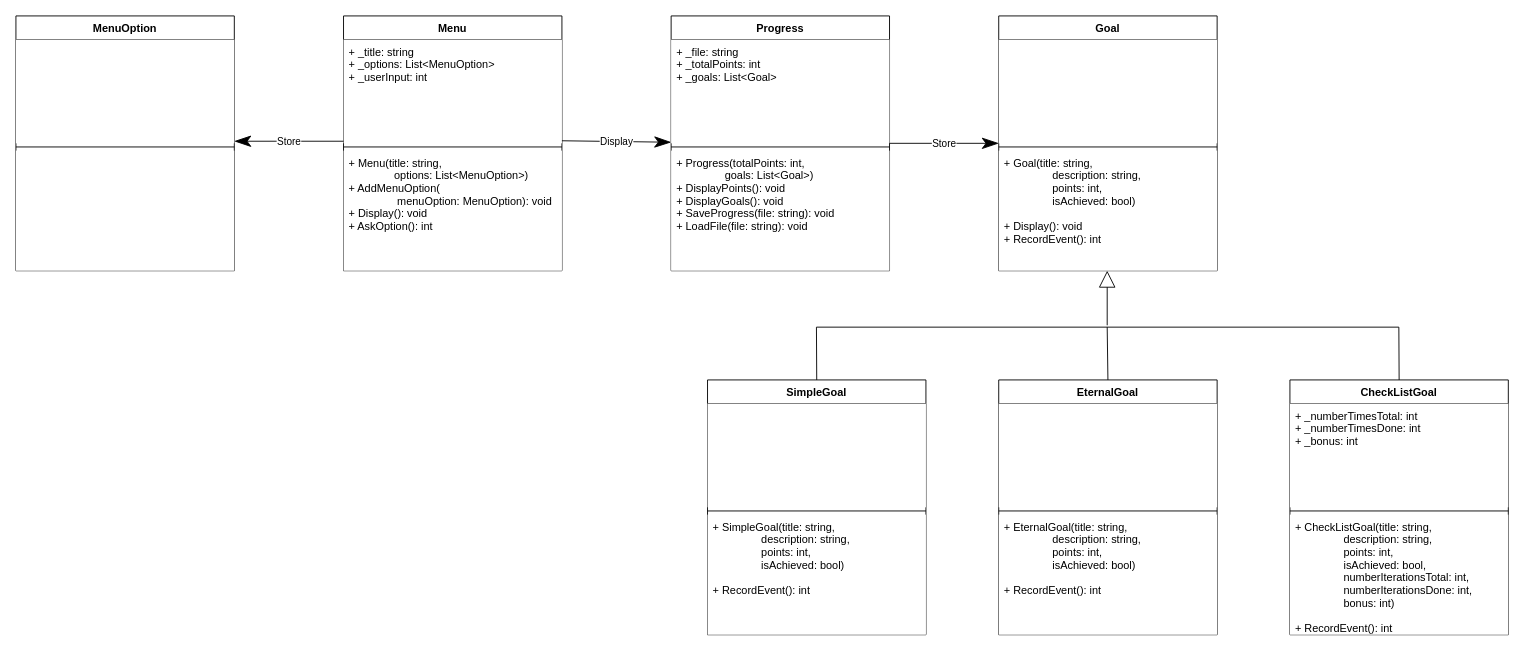
This 1524x653 diagram has some shape labels left out. The centre of each missing label's shape, as x and y in pixels:
+ _id: int + _title: string: (124,91)
+ _title: string + _description: string + _points: int + _isAchieved: bool: (1107,91)
+ MenuOption(id: int, title: string) + Display(): void: (124,210)
